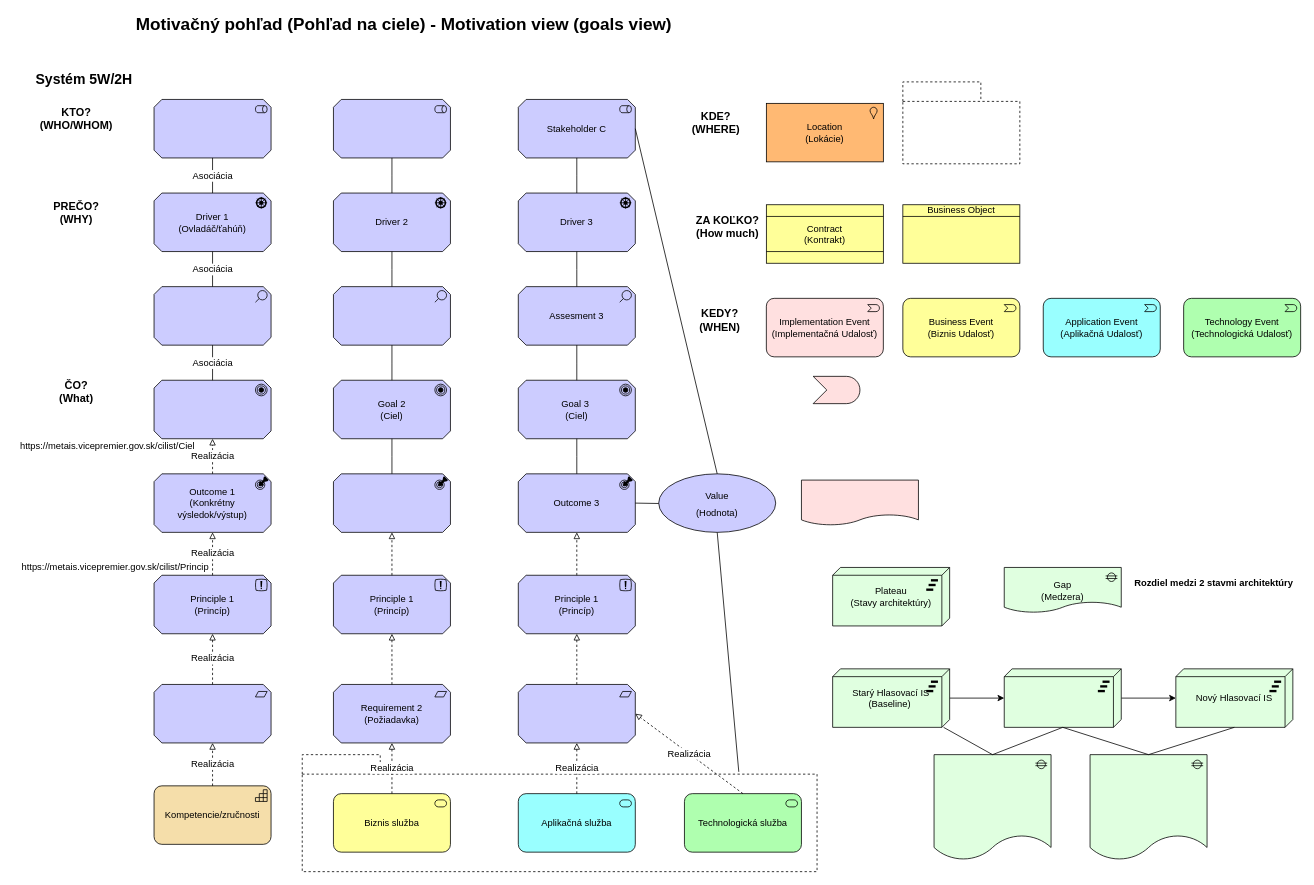
This 1314x885 diagram has some shape labels left out. Each missing label, with the centre of its shape:
Assesment 1 (Vyhodnotenie/Výsledok analýzy): the point at 212,315
Assesment 2: the point at 391,315
Bežia paralelne 2 systémy: the point at 1062,697
Deliverable (Dodávka): the point at 859,503
Goal 1 (Ciel): the point at 212,409
Group (Skupina): the point at 961,122
Implementation Event: the point at 836,390
Máme Duplicitné Dáta a Drahý Synchronizáciu: the point at 1148,809
Nie sme Schopný Splniť Očakávania (Zákazník/Občan/Iní Stakeholdery): the point at 992,809
Outcome 2: the point at 391,502
Requirement 1 (Požiadavka): the point at 212,713
Requirement 3 (Požiadavka): the point at 576,713
Stakeholder A (Zaujmové skupiny): the point at 212,128
Stakeholder B: the point at 391,128
